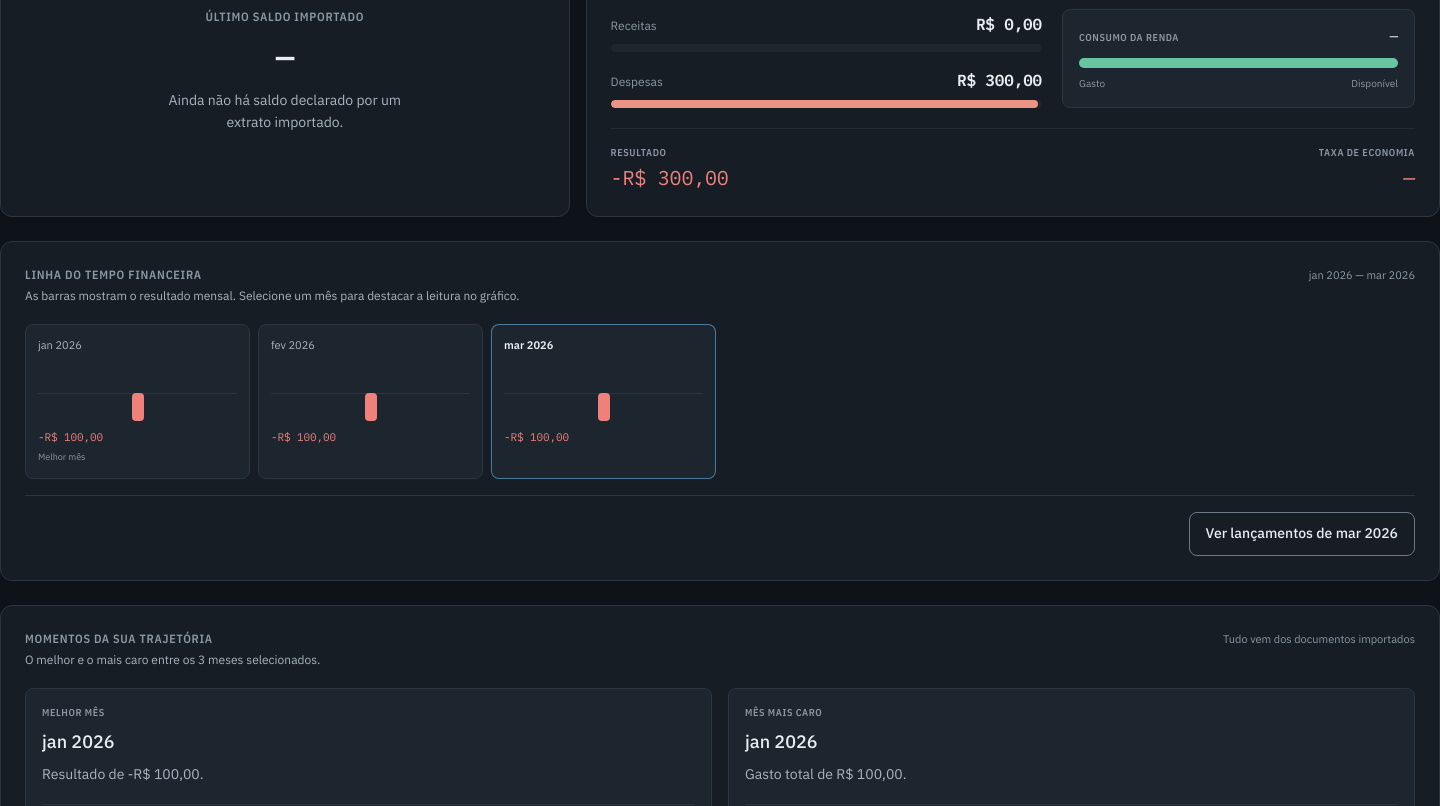
Minha situação financeira — histórico por competência › compara intervalos consecutivos na virada do ano e preserva a seleção na URL
(page scrolled)
Click the button with aria-label "Selecionar fev 2026": [370, 401] box [258,324,483,478]
(page scrolled)
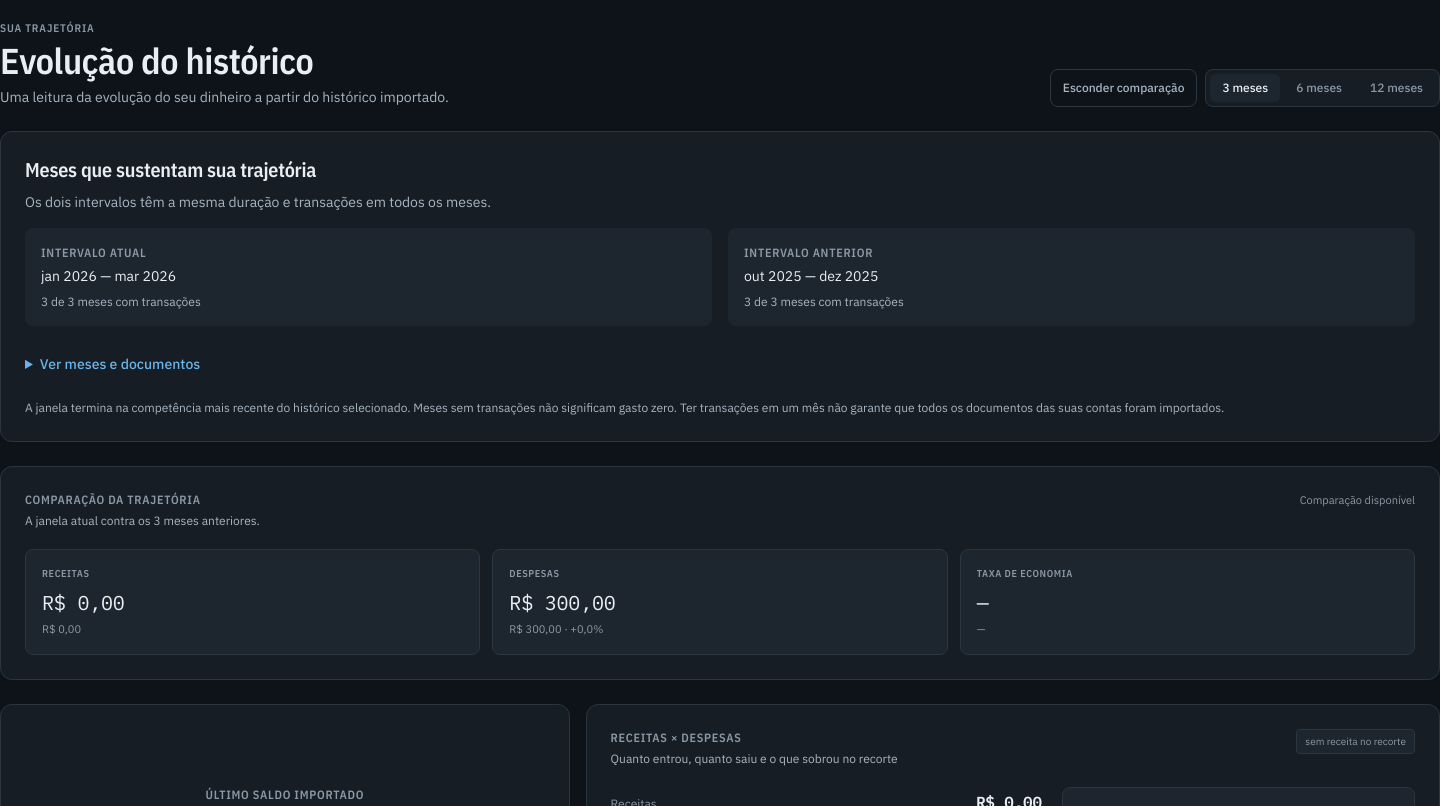
Click the button "6 meses": [1319, 88] box [1284,74,1354,102]
(page scrolled)
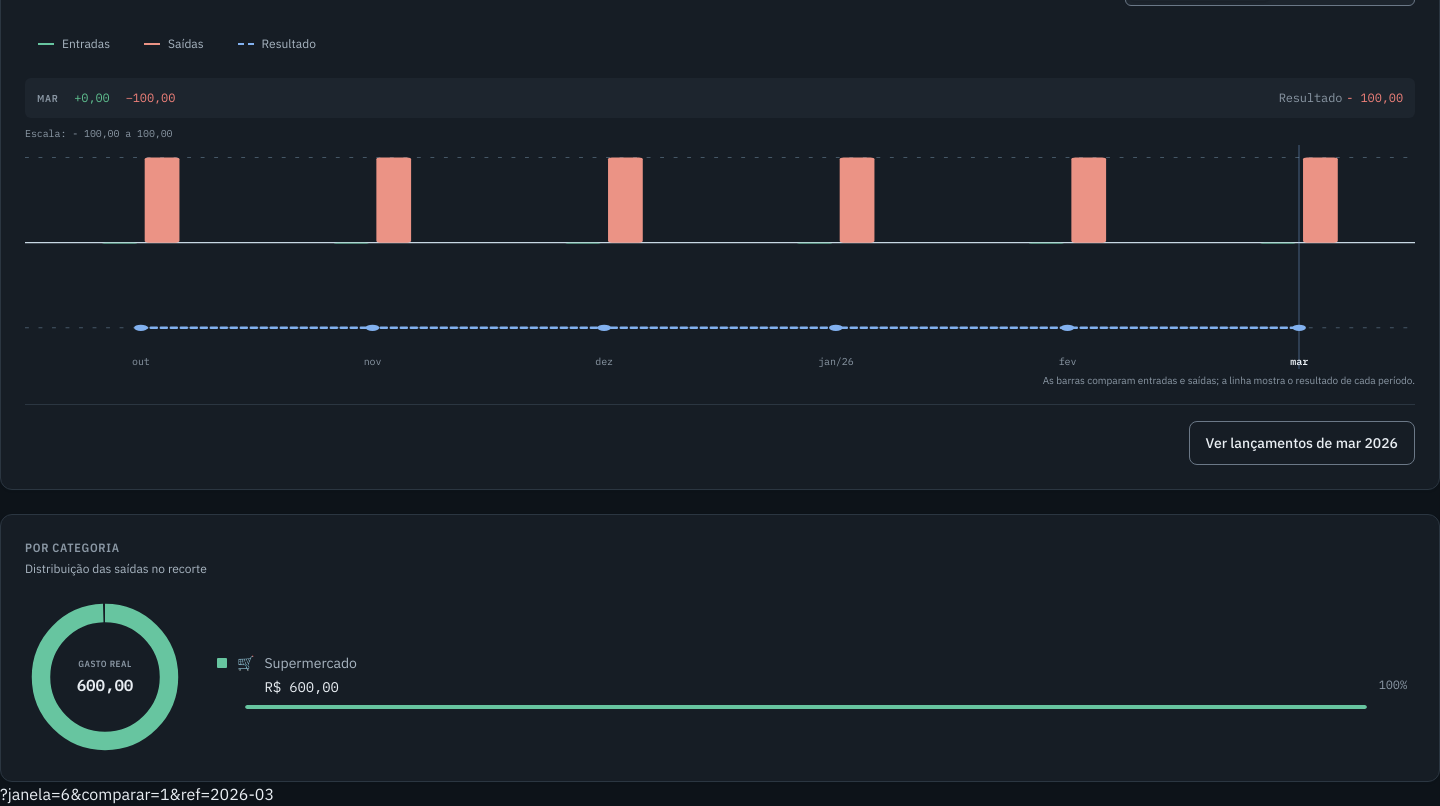
Expected: the text named "Endereço" does not show "mes=", [0,784,274,804]
Result: the text named "Endereço" shows "janela=6" at [0,784,274,804]
